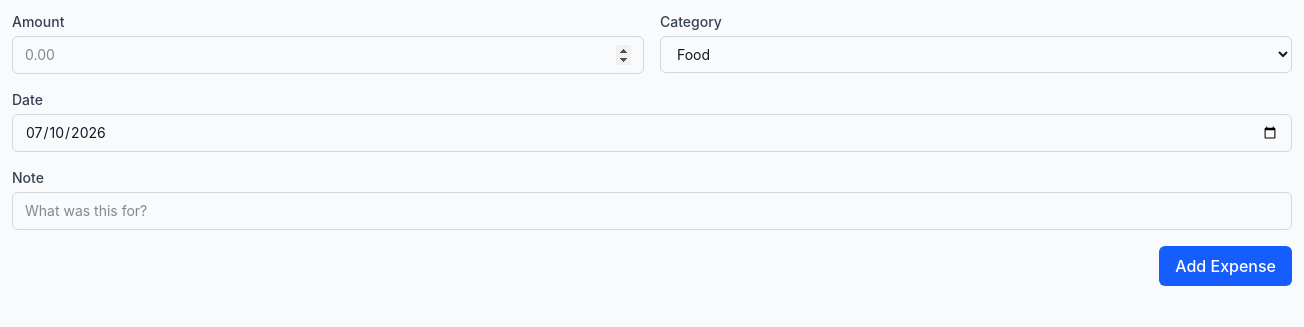
Test: ExpenseForm › shows validation error for invalid amount
# Submit without filling amount
Click the button "Add Expense" at (1226, 266), box [1159,246,1292,286]
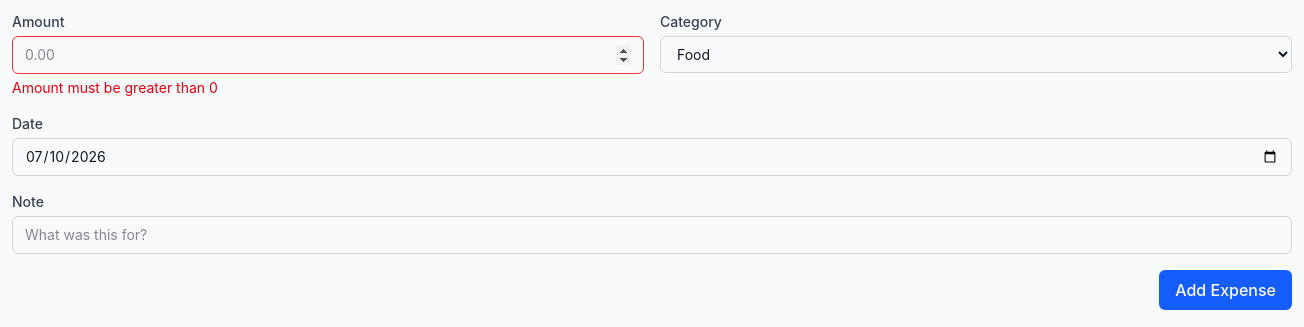
expect the text "Amount must be greater than 0" is shown: met, box [12,79,218,96]
